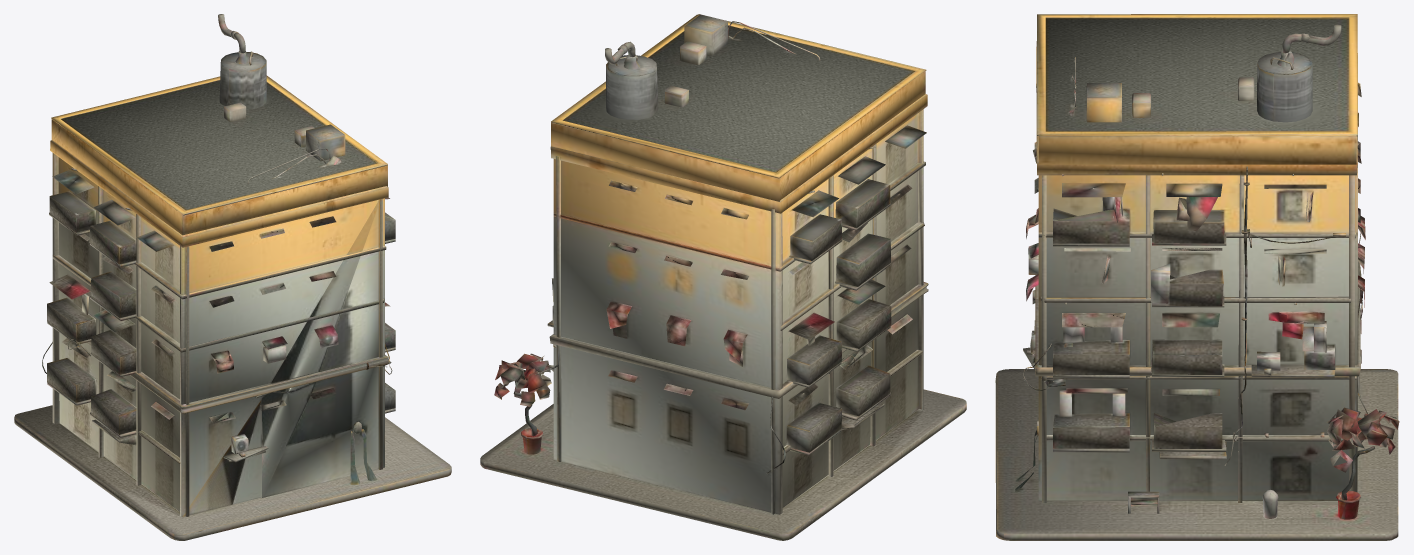
File: tower.glb
The picture shows the model from 3 angles, left to right: view 1: azimuth 30°, elevation 25°; view 2: azimuth 150°, elevation 25°; view 3: azimuth 270°, elevation 25°; orthographic projection. The views are drawn at different scales.
Size of the model in its own units: 0.7393 by 0.9517 by 0.7578.
1 material, 1 textured.
